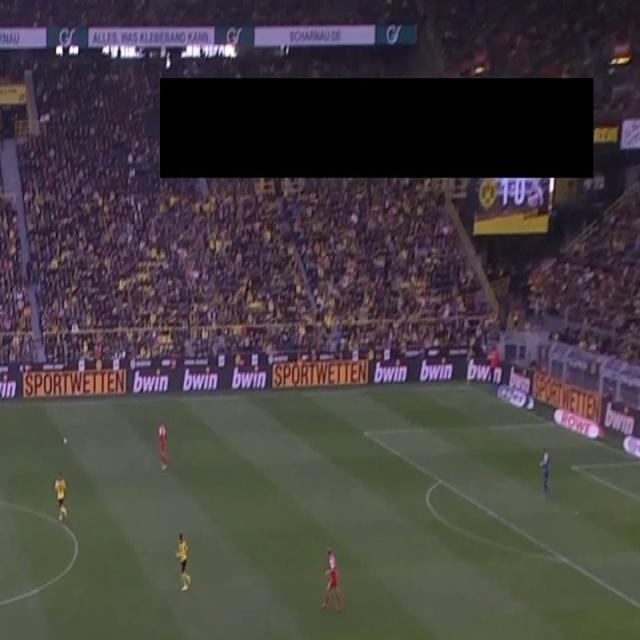ball: (62, 435, 69, 446)
